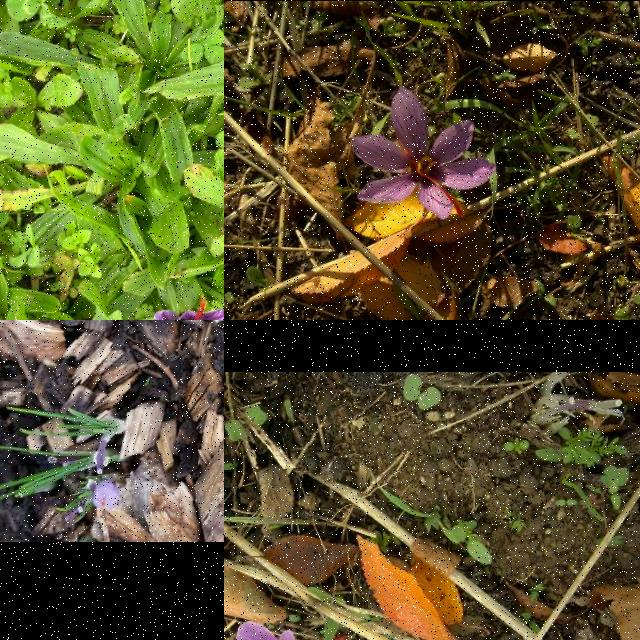flower: (352, 86, 492, 220), (139, 300, 224, 320), (93, 482, 119, 512)
